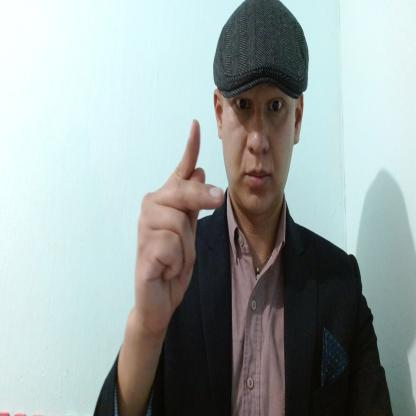P: (131, 115, 226, 327)
